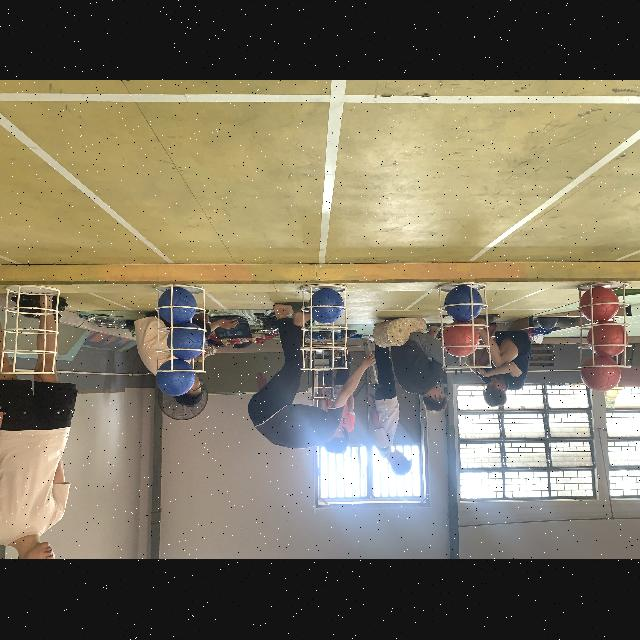B: (162, 323, 206, 361), (153, 360, 195, 398), (157, 289, 199, 325), (443, 287, 482, 323), (310, 289, 344, 325)
R: (578, 356, 622, 392), (588, 322, 630, 358), (580, 286, 620, 322), (441, 324, 479, 358)
